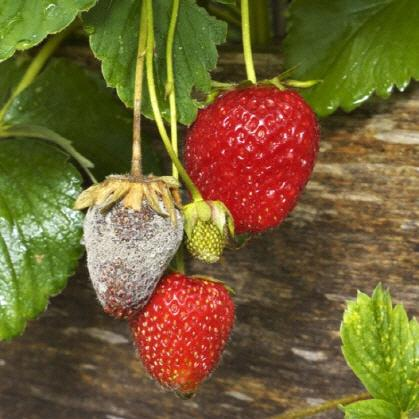Gray Mold: (72, 173, 185, 321)
